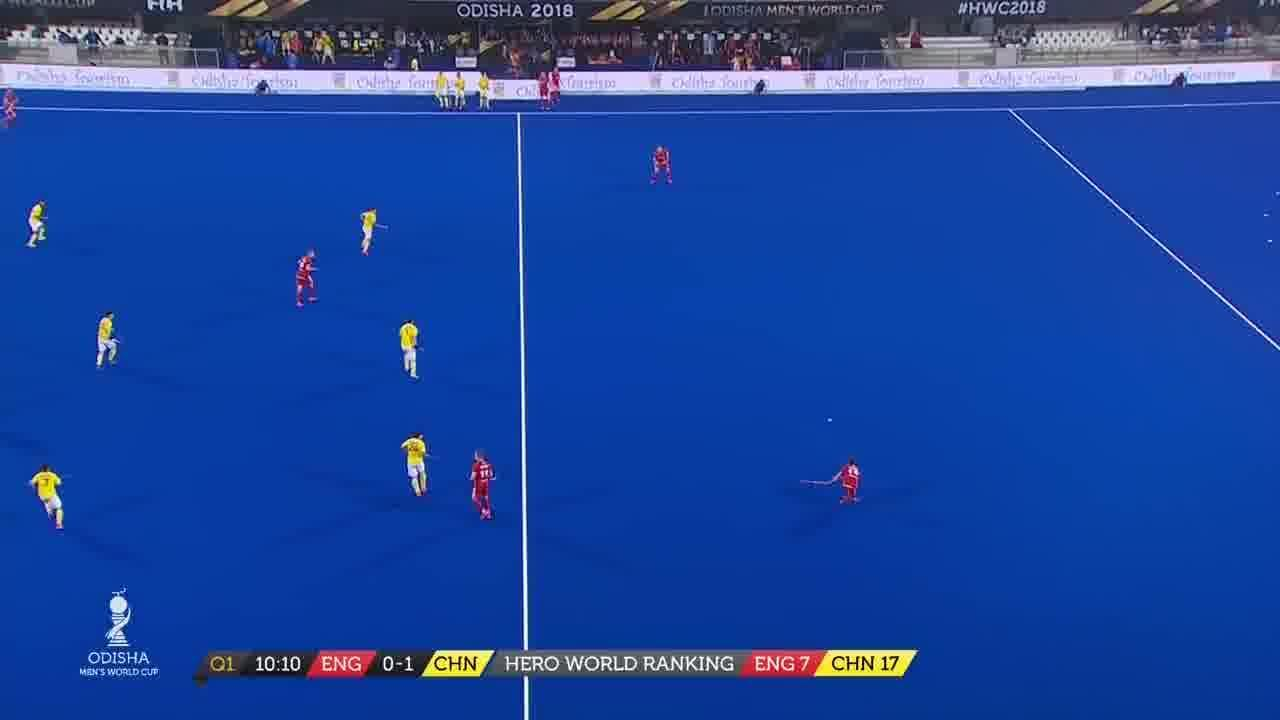ball: (817, 412, 844, 432)
